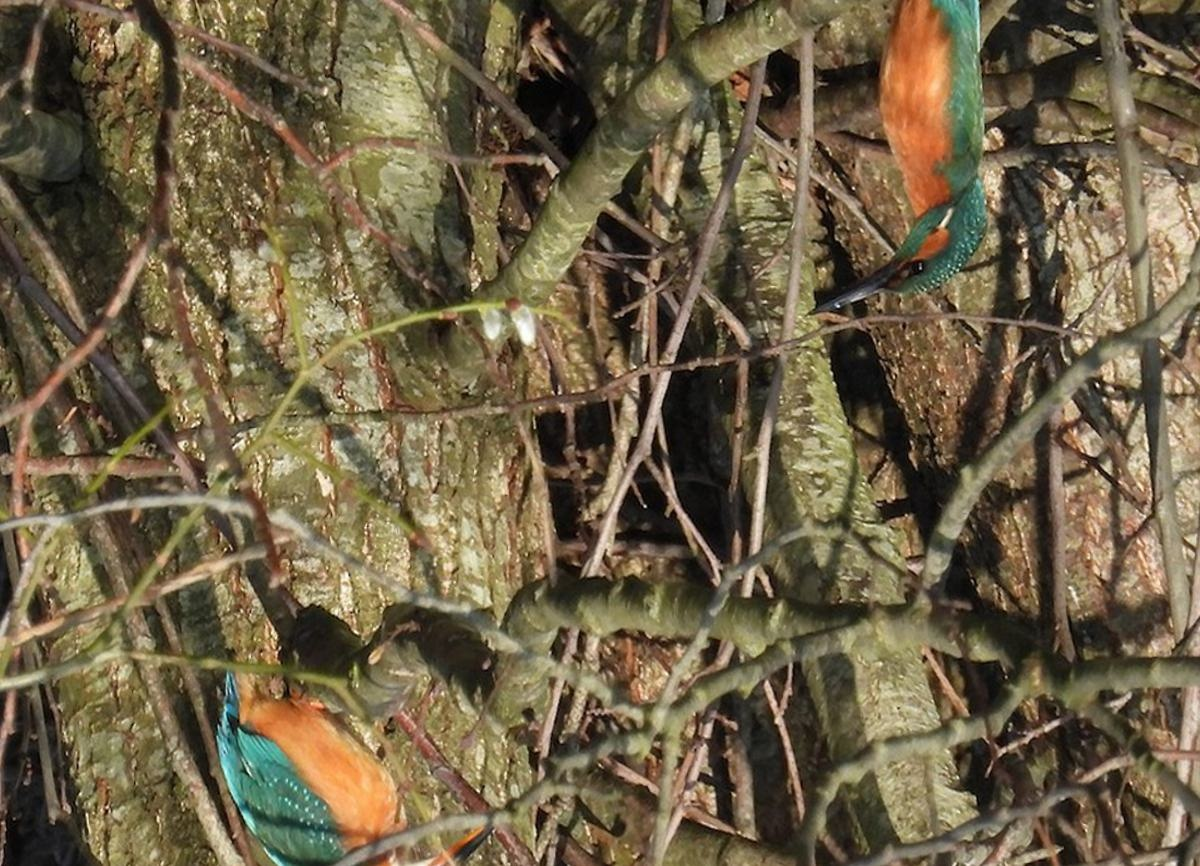kingfisher: (797, 1, 1019, 320)
